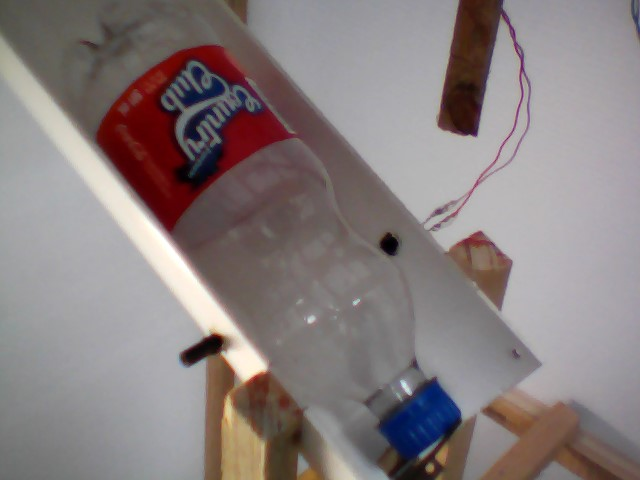plastico: (56, 1, 464, 464)
